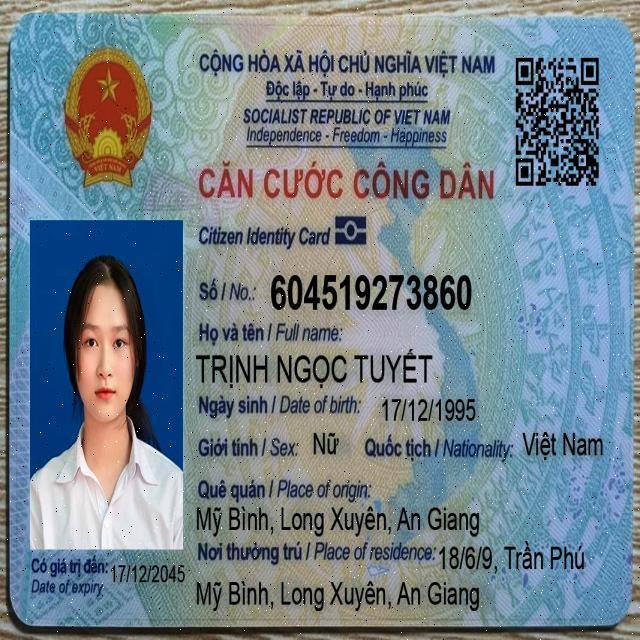current_place: (192, 573, 487, 618), (435, 538, 590, 578)
dob: (379, 391, 479, 427)
expire_date: (107, 558, 188, 591)
gender: (308, 424, 344, 463)
id: (267, 267, 476, 318)
name: (191, 345, 438, 392)
nationality: (517, 423, 607, 466)
origin_place: (192, 499, 483, 542)
